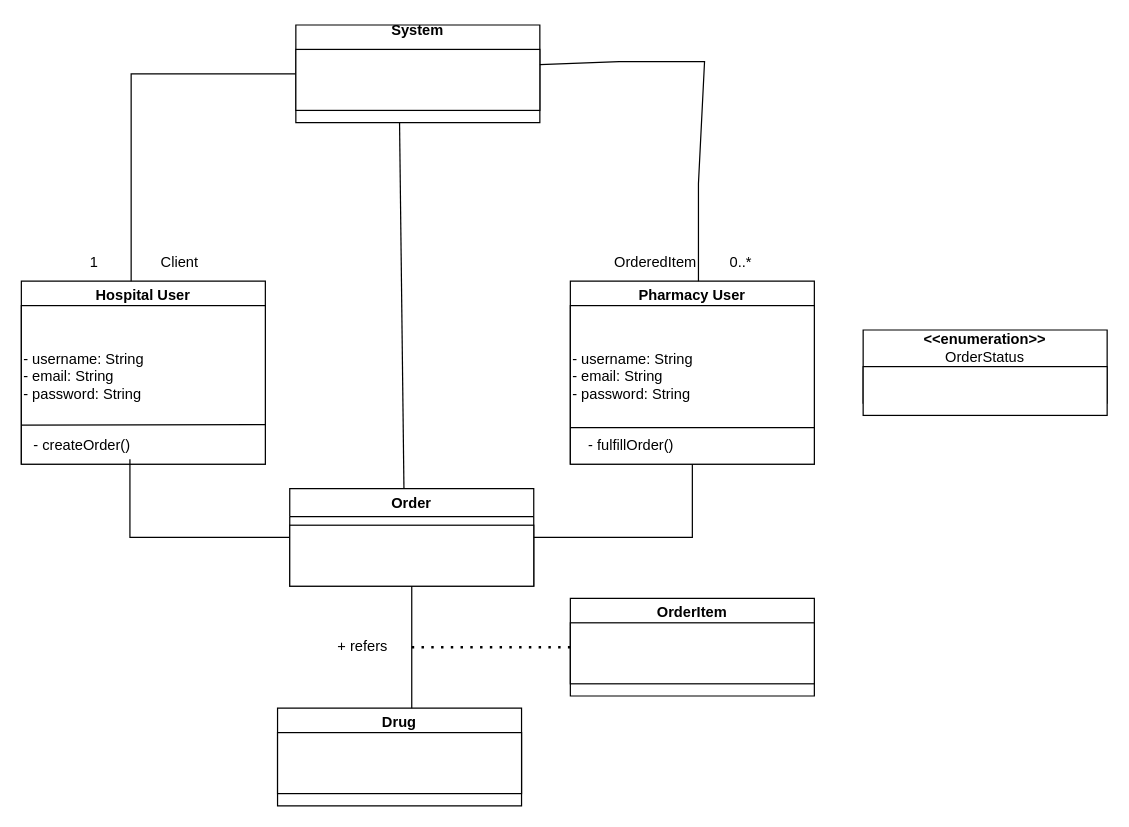
The diagram is 1129 pixels wide and 827 high, and some of its shapes have lost their labels. Here are the shapes that lost their labels. From the top down, the centre of each, then its label:
(x=417, y=79): +name: String
(x=984, y=390): Pending, Honored
(x=411, y=555): - hospitalId: number - status: OrderStatus
(x=691, y=653): + quantity: Integer
(x=399, y=762): - name : String - details : String
